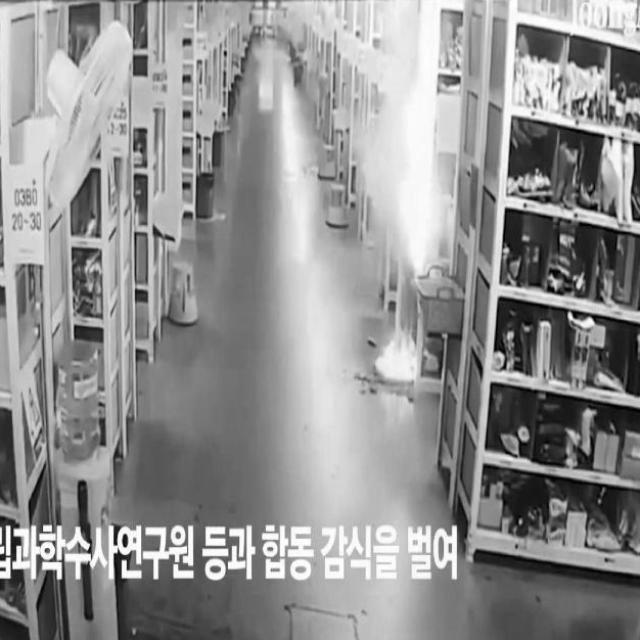smoke: (398, 0, 436, 279), (373, 330, 416, 381)
